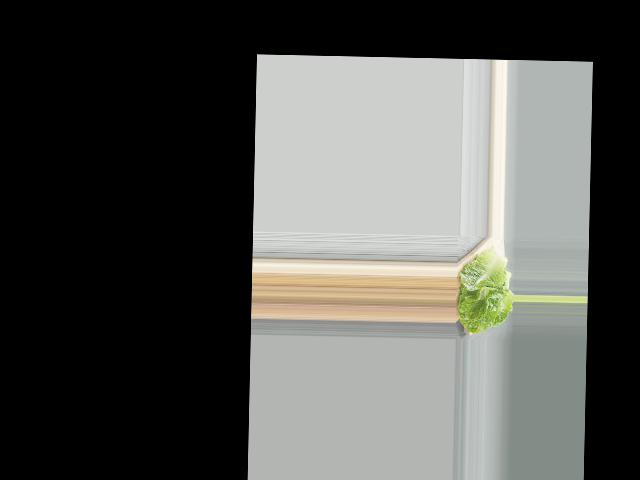lettuce: (454, 248, 514, 337)
